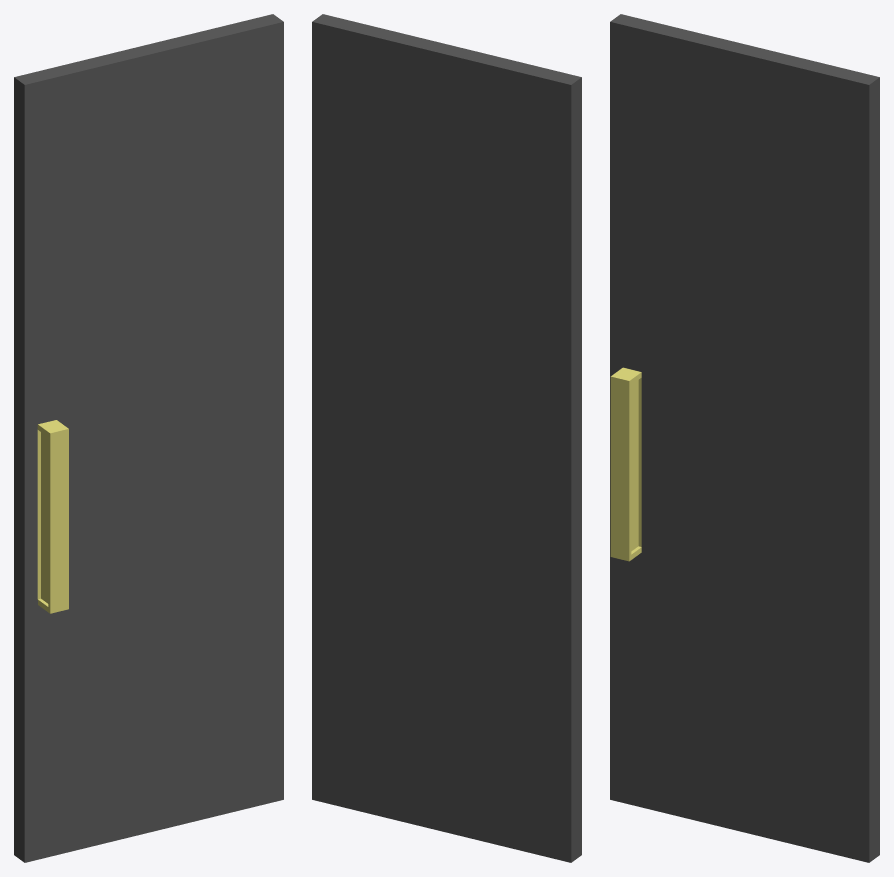
The model's file is Itr_Wardrobe3_Door_Right_04.FBX.
3 views of the same model, side by side, from view 1: azimuth 30°, elevation 25°; view 2: azimuth 150°, elevation 25°; view 3: azimuth 330°, elevation 25° (orthographic).
Visible parts, largest first — view 1: Itr_Wardrobe3_Door_Right_04; view 2: Itr_Wardrobe3_Door_Right_04; view 3: Itr_Wardrobe3_Door_Right_04.
Boxes of the visible parts, box(x1,y1,x2,y2) form: Itr_Wardrobe3_Door_Right_04: box(14, 14, 283, 862); Itr_Wardrobe3_Door_Right_04: box(312, 14, 581, 862); Itr_Wardrobe3_Door_Right_04: box(610, 14, 879, 862).
Bounding box in the file's own units: 20.07 × 57.59 × 3.1.
